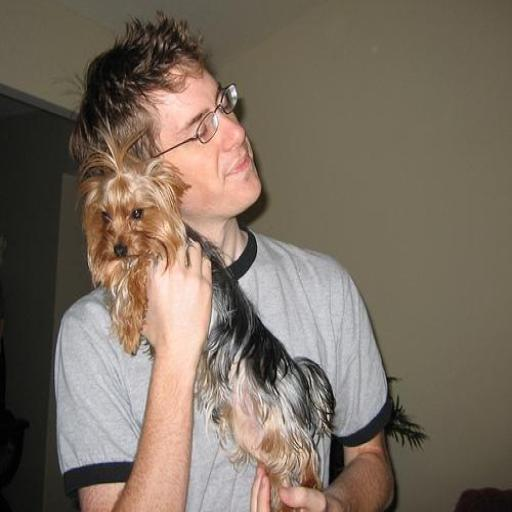dog_face: (79, 171, 186, 291)
